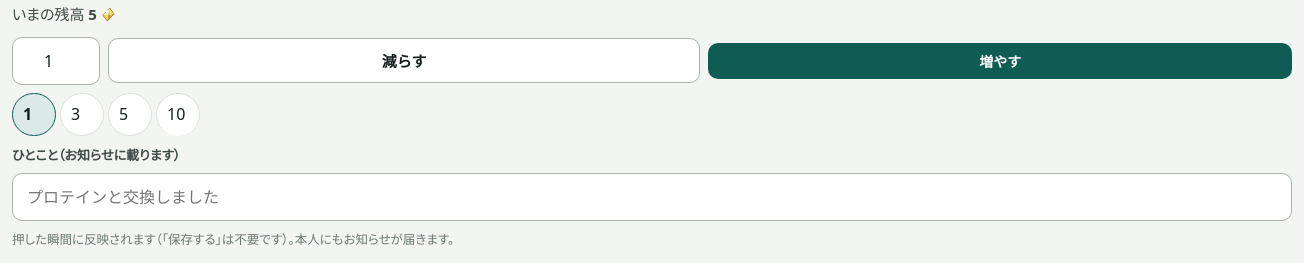
Test: 打ち間違い › よく使う数は、押すだけで入る
This screenshot has width=1304, height=263.
Click the button "3".
click(82, 114)  # box [60,93,104,136]
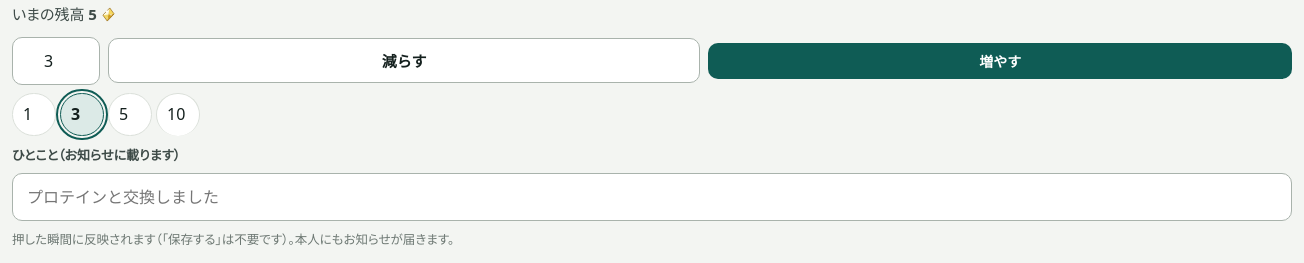
Expected: the number field holds "3", [12,36,100,85]
